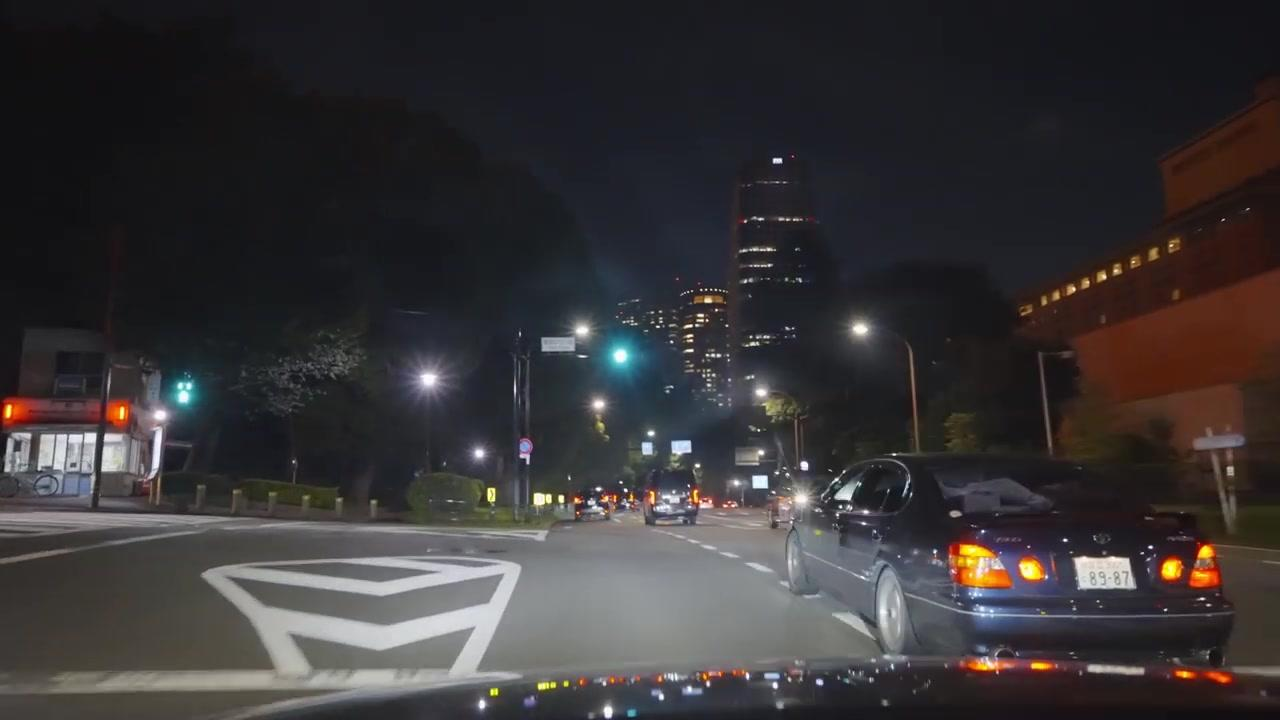car: (781, 451, 1237, 666), (643, 468, 698, 527), (575, 500, 607, 521)
traffic light: (173, 372, 195, 409), (107, 400, 131, 429), (609, 342, 631, 372), (518, 438, 532, 459)
truck: (642, 469, 698, 527)
